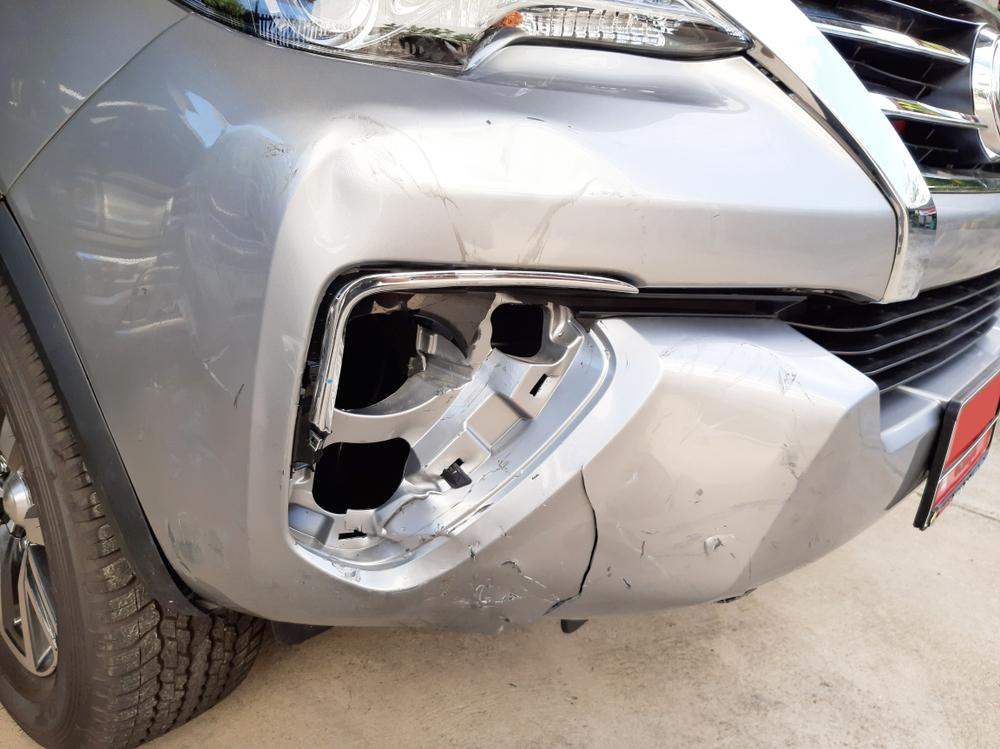crack: (541, 465, 600, 616)
dent: (309, 150, 371, 248)
